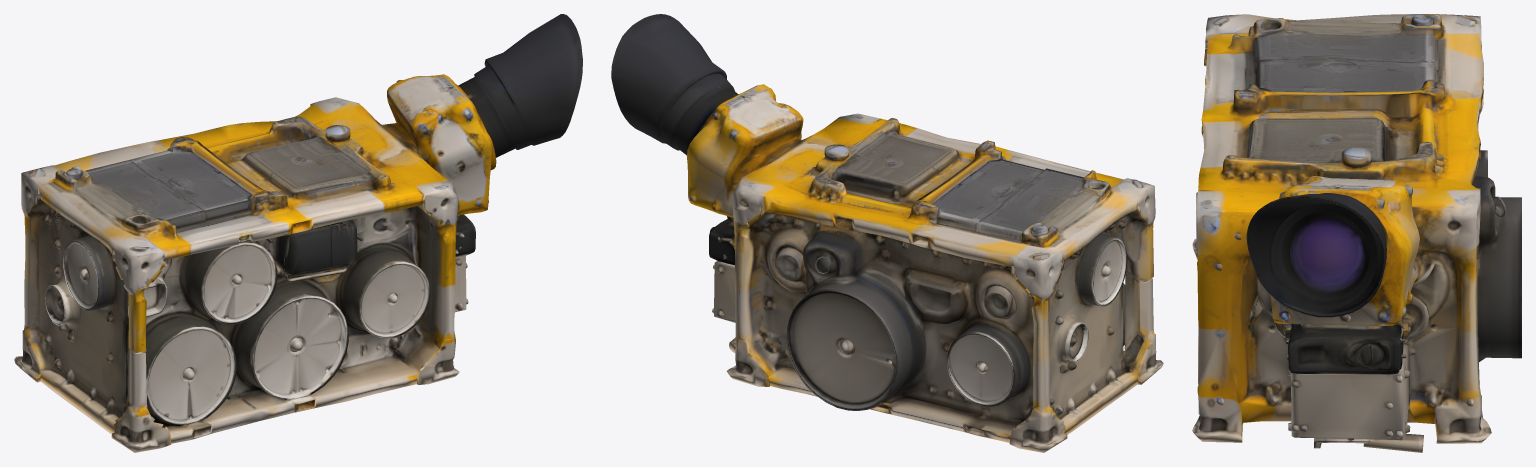
Rendered from sat3_7.fbx.
3 views of the same model, side by side, from view 1: azimuth 30°, elevation 25°; view 2: azimuth 150°, elevation 25°; view 3: azimuth 270°, elevation 25° (orthographic). The views are drawn at different scales.
Parts seen in each view (by area): view 1: tripo_node_1509bcf7; view 2: tripo_node_1509bcf7; view 3: tripo_node_1509bcf7.
Boxes of the visible parts, x1,y1,x2,y2 form: tripo_node_1509bcf7: (14,14,582,452); tripo_node_1509bcf7: (611,14,1163,452); tripo_node_1509bcf7: (1192,14,1521,452).
Bounding box in the file's own units: 0.9995 × 0.5444 × 0.4761.
